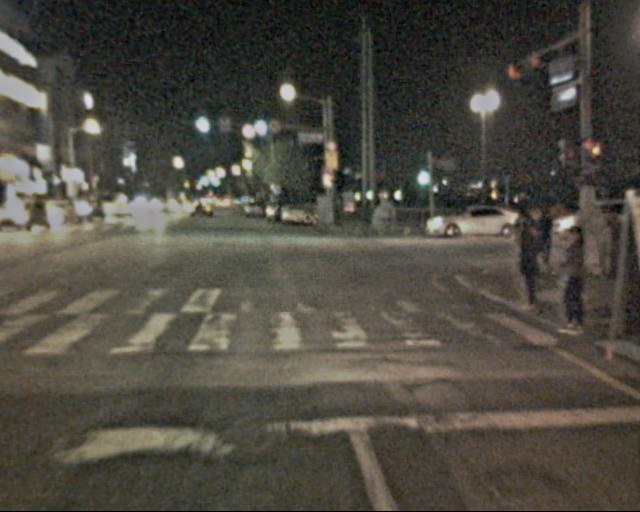person: (545, 225, 594, 335), (506, 214, 551, 312)
